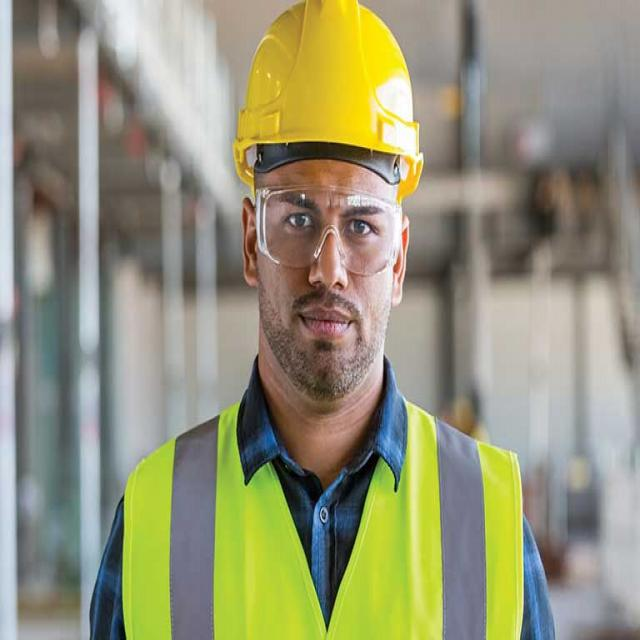Reflective-Jacket: (120, 400, 530, 638)
Safety-Helmet: (230, 0, 423, 177)
